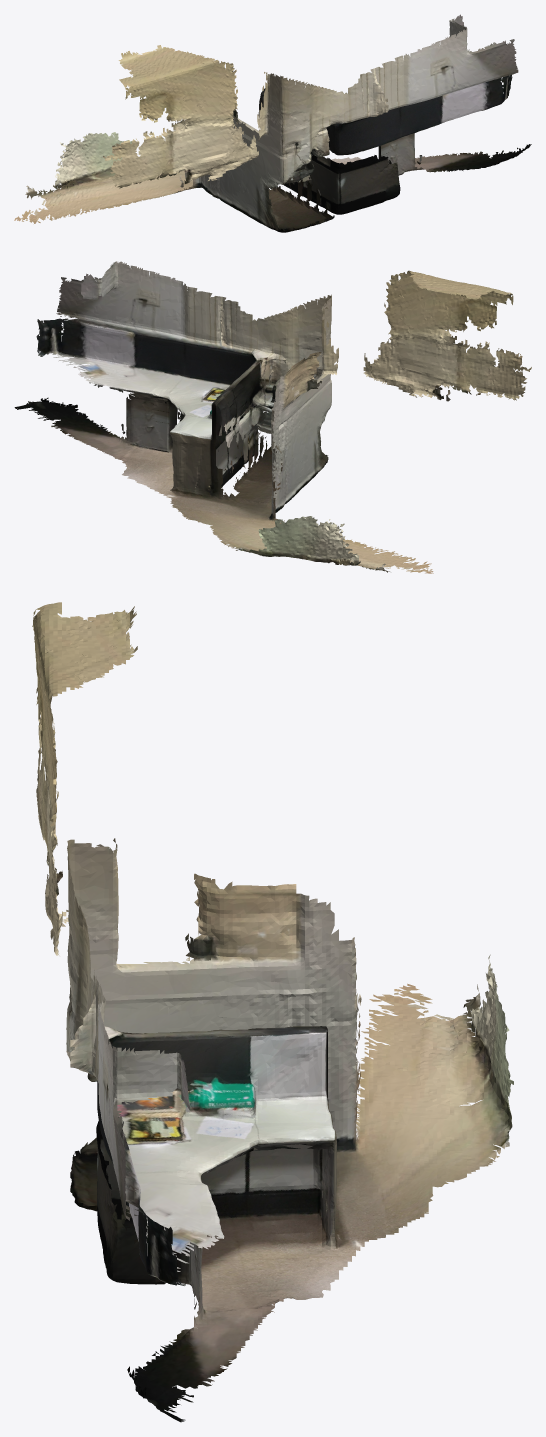
3 views of the same model, one above another, from view 1: azimuth 30°, elevation 25°; view 2: azimuth 150°, elevation 25°; view 3: azimuth 270°, elevation 25° (orthographic). The views are drawn at different scales.
Visible parts, largest first — view 1: mesh; view 2: mesh; view 3: mesh.
Part boxes in pixels (x1=…): mesh: x1=14, y1=14, x2=531, y2=232; mesh: x1=14, y1=261, x2=531, y2=573; mesh: x1=32, y1=602, x2=513, y2=1422.
Size of the model in its own units: 6.28 by 2.7 by 2.83.
Materials: 1 (1 with a texture image).
